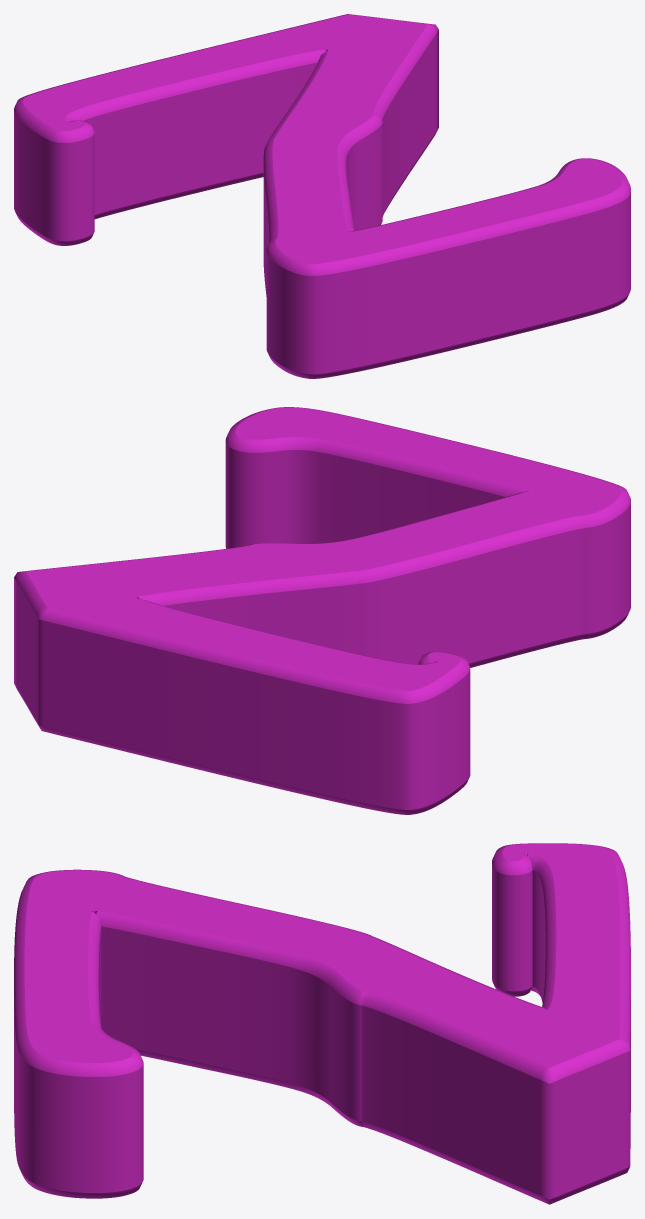
File: Letter_Z.fbx
The picture shows the model from 3 angles, top to bottom: view 1: azimuth 30°, elevation 25°; view 2: azimuth 150°, elevation 25°; view 3: azimuth 270°, elevation 25°; orthographic projection. The views are drawn at different scales.
Visible parts, largest first — view 1: Letter_Z; view 2: Letter_Z; view 3: Letter_Z.
Boxes of the visible parts, x1,y1,x2,y2 form: Letter_Z: (14, 14, 630, 378); Letter_Z: (14, 407, 630, 814); Letter_Z: (14, 843, 630, 1204).
Bounding box in the file's own units: 0.5216 × 0.14 × 0.5785.
